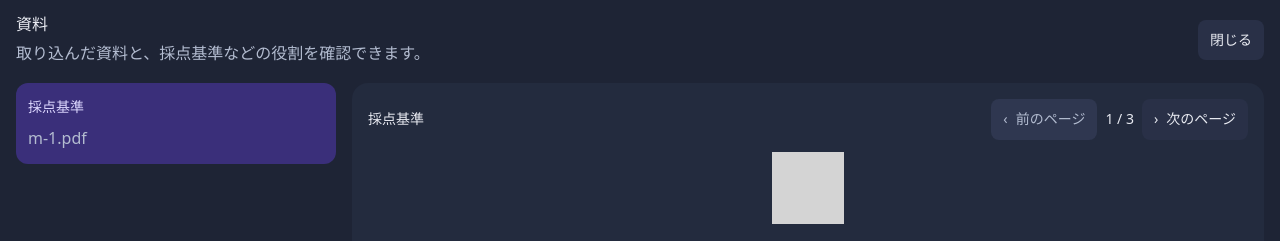
material window viewer › shows the first page and pages through the rest
Expected: the text with test id "material-page-indicator" reads "1 / 3", [1105,107,1134,132]
Click the button with test id "material-page-next" at (1195, 120), box [1142,99,1248,140]
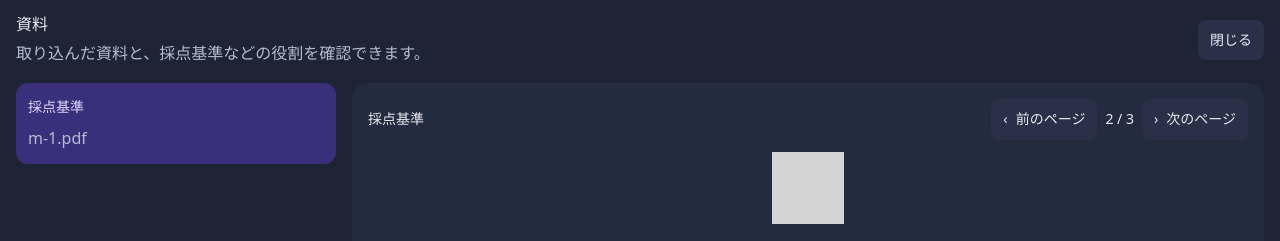
Expected: the text with test id "material-page-indicator" reads "2 / 3", [1105,107,1134,132]
Click the button with test id "material-page-prev" at (1044, 120), box [991,99,1097,140]
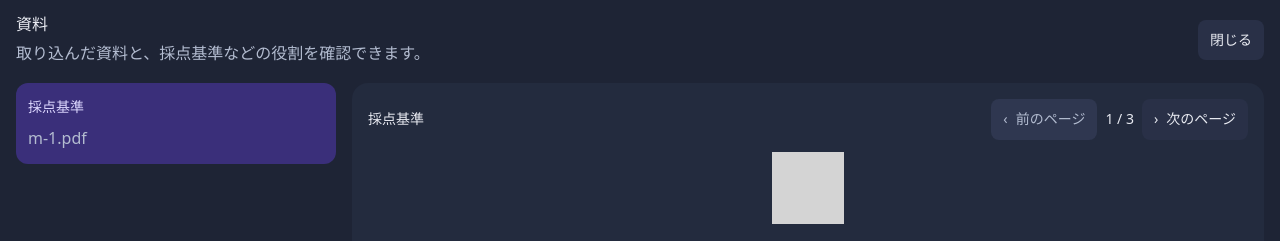
Expected: the text with test id "material-page-indicator" reads "1 / 3", [1105,107,1134,132]
